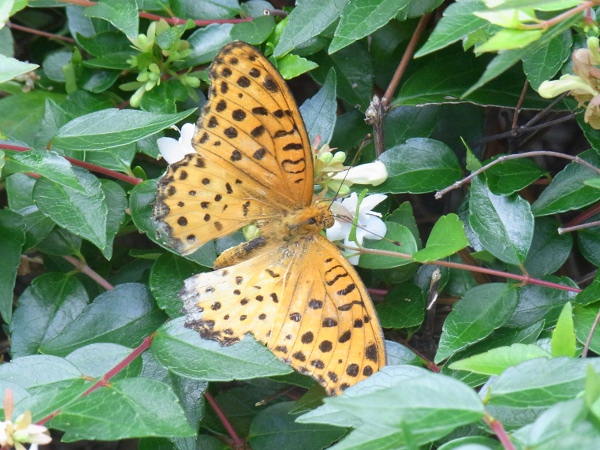Argyreus hyperbius: (147, 32, 407, 394)
butterfly: (149, 34, 409, 396)
